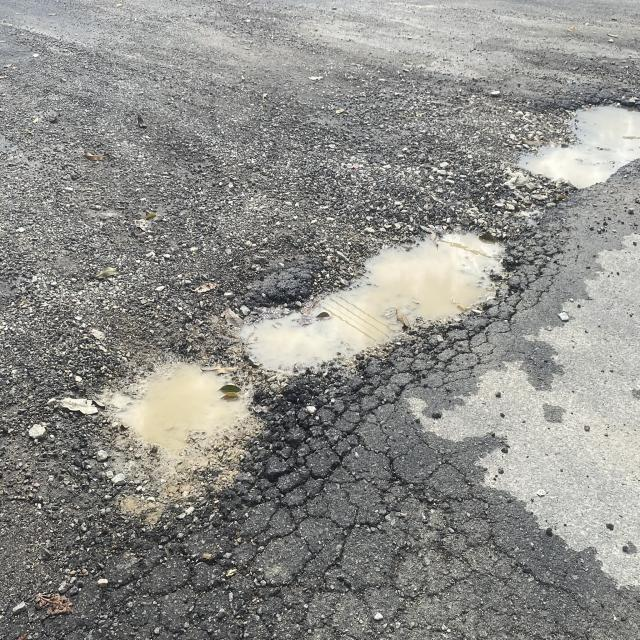pothole: (148, 206, 498, 483), (38, 340, 264, 588), (439, 109, 640, 205)
